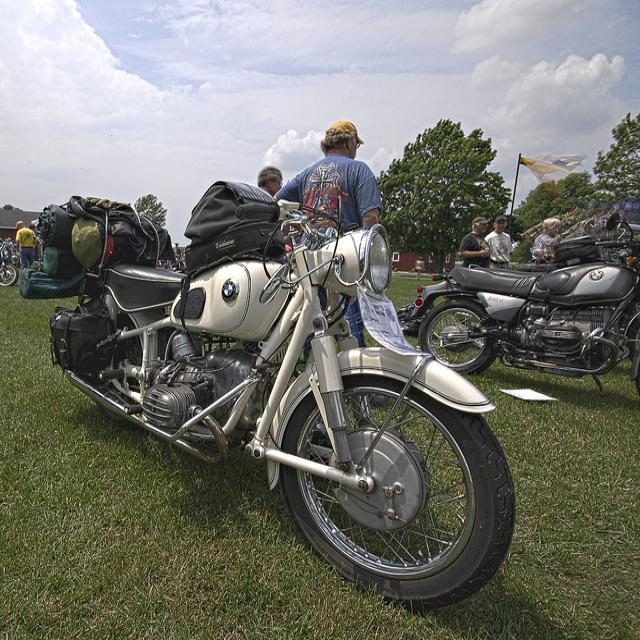motor: (61, 196, 515, 608), (408, 221, 639, 396), (466, 218, 611, 276), (0, 241, 19, 287), (171, 258, 185, 272)
